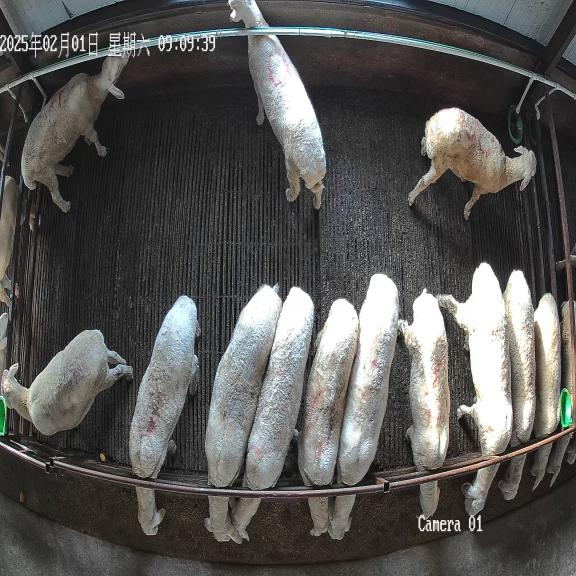eating: (230, 287, 314, 543), (205, 285, 282, 541), (437, 262, 513, 516), (328, 273, 398, 539), (129, 295, 198, 535), (298, 298, 359, 536), (398, 289, 450, 518), (498, 270, 536, 500), (531, 293, 561, 490)
stand: (228, 0, 326, 209), (21, 54, 128, 212), (408, 107, 536, 220), (0, 330, 132, 435)
